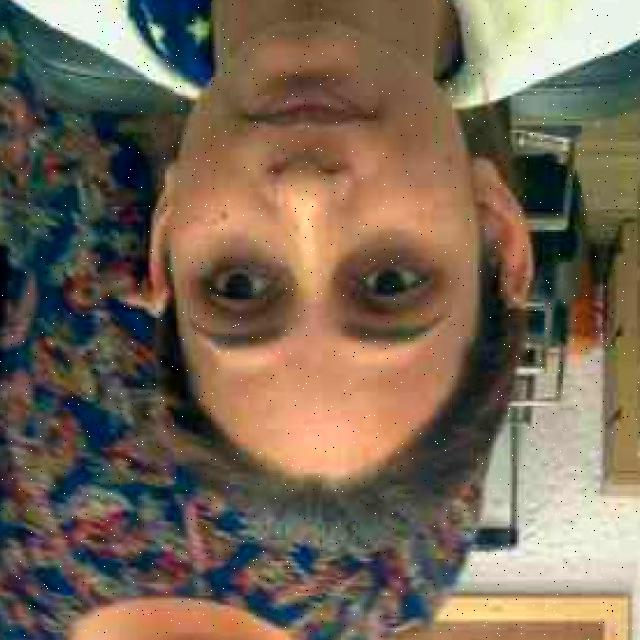puffy_eyes: (338, 236, 422, 277)
